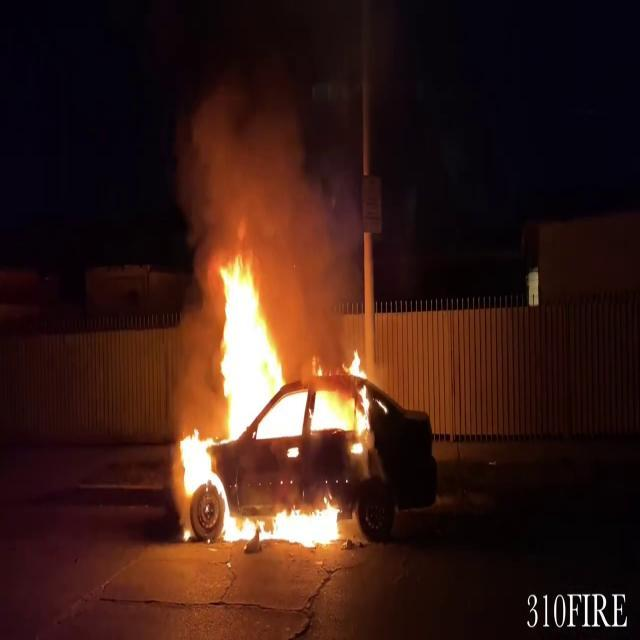Fire: (169, 228, 373, 550)
Smoke: (166, 46, 354, 278)
